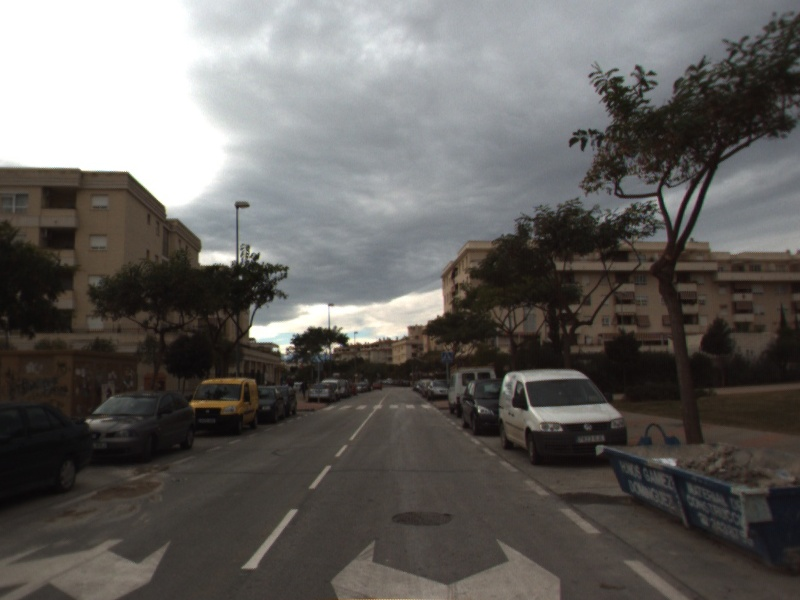LEFT_RIGHT: (326, 530, 565, 600)
